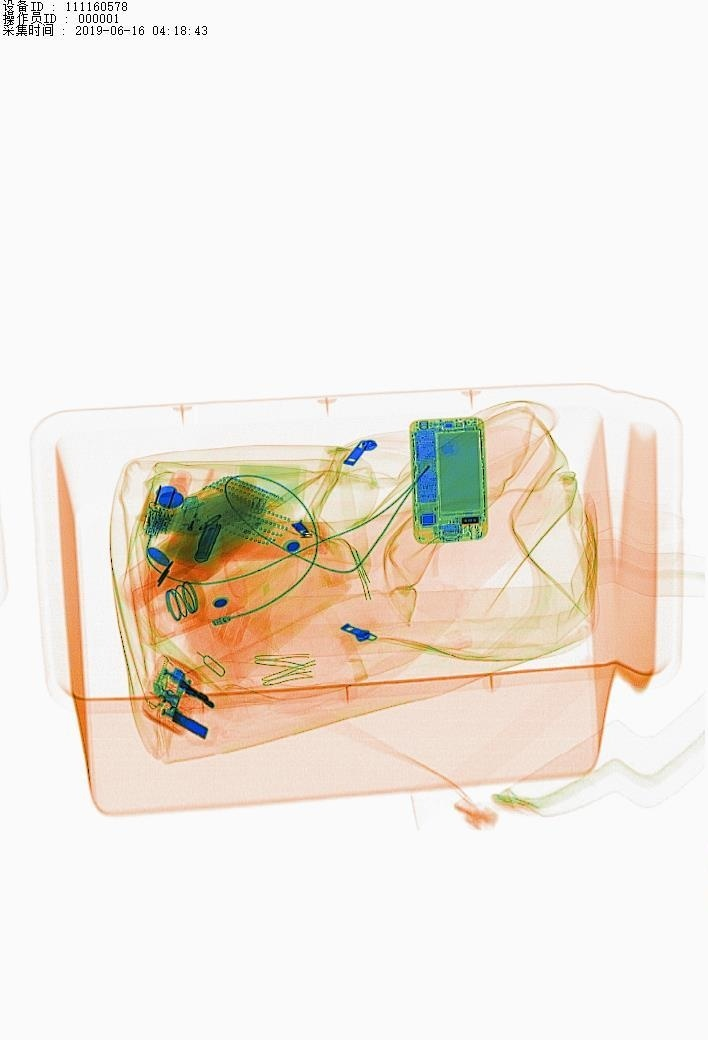NonmetallicFire: (146, 489, 212, 581)
